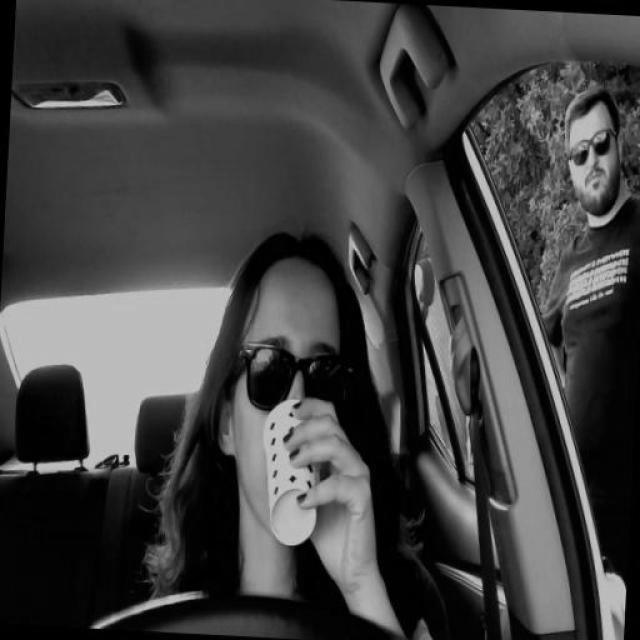Drinking: (265, 394, 329, 551)
